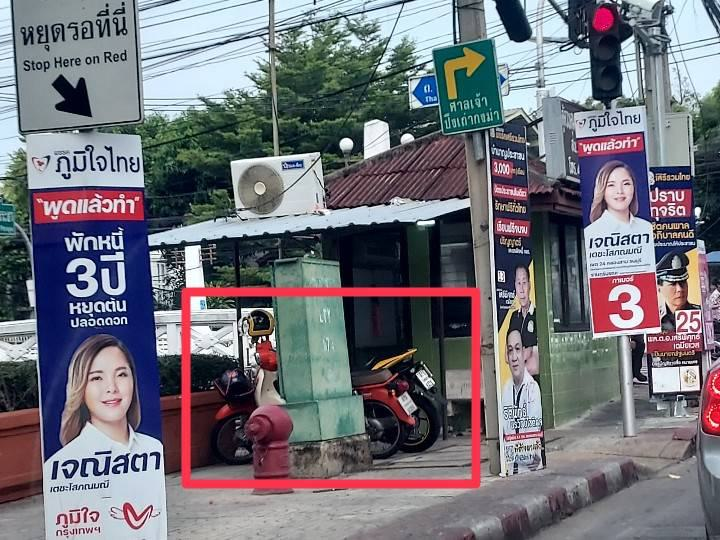Banner: (28, 130, 169, 540), (486, 125, 549, 492), (571, 98, 649, 350), (645, 164, 704, 414)
